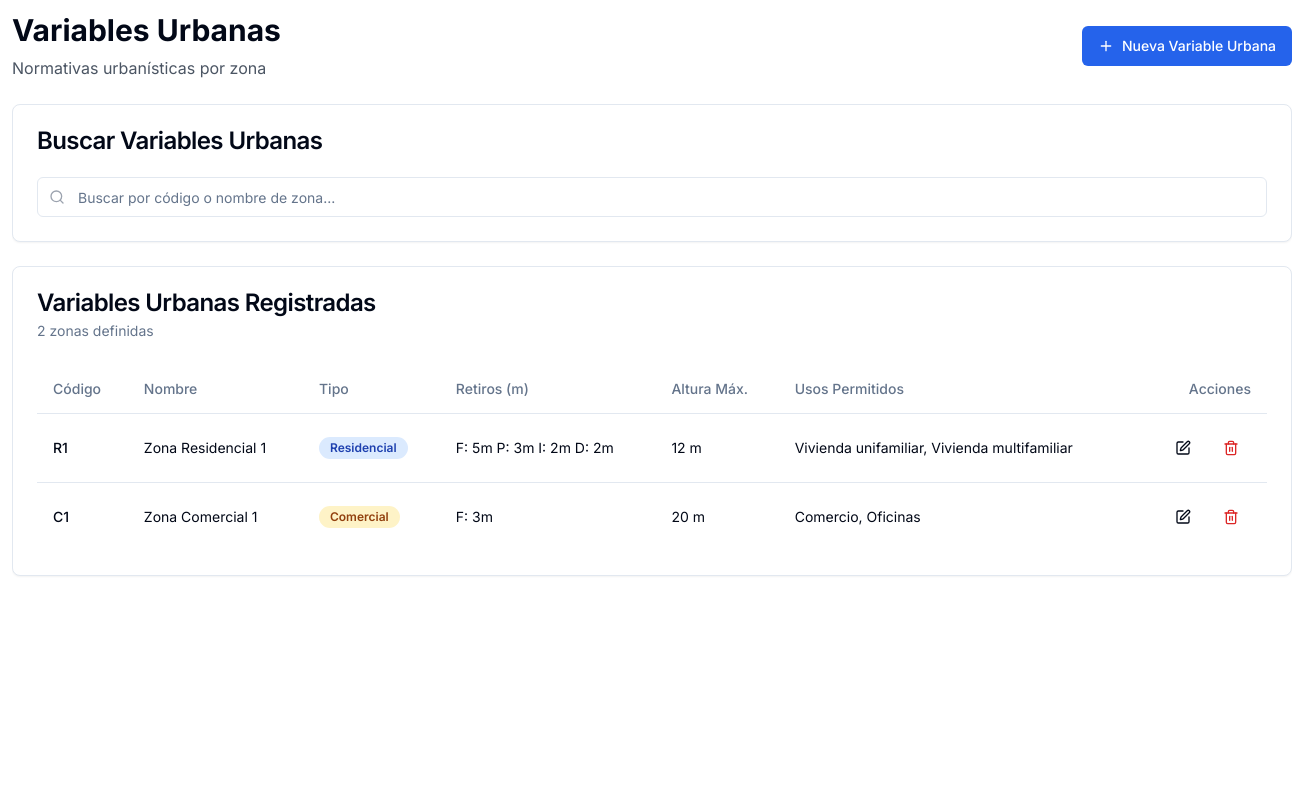
Scenario: Catastro Integration Tests › Urban Variables Management › filters urban variables by search term
Expected: the text "R1" is shown, [37,413,128,482]
Type "Comercial" into the field with placeholder "Buscar por código o nombre de zona..." at (652, 197), box [37,177,1267,217]
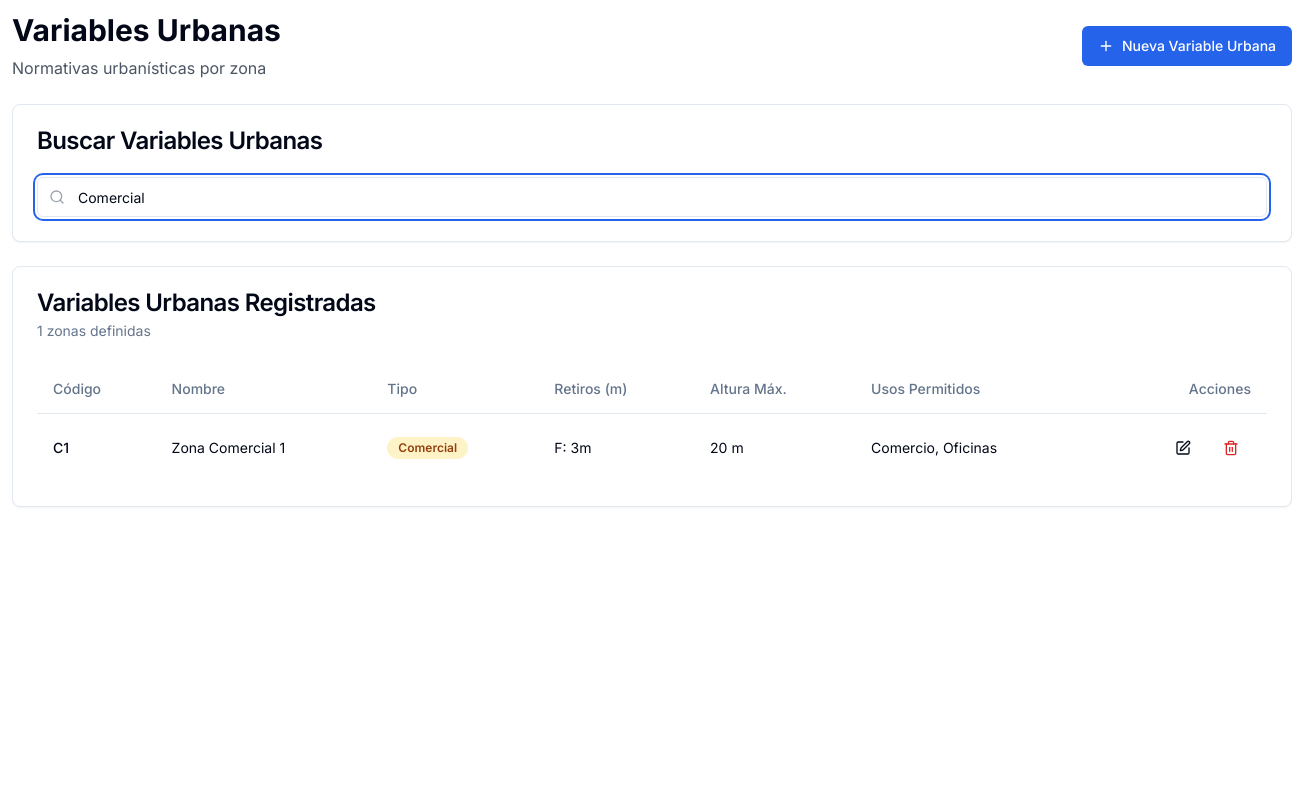
Expected: the text "C1" is shown, [37,413,156,482]
Expected: the text "R1" is gone
